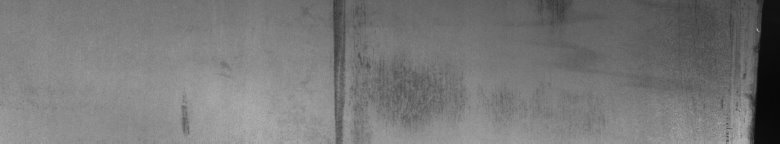ka: (325, 4, 428, 136)
